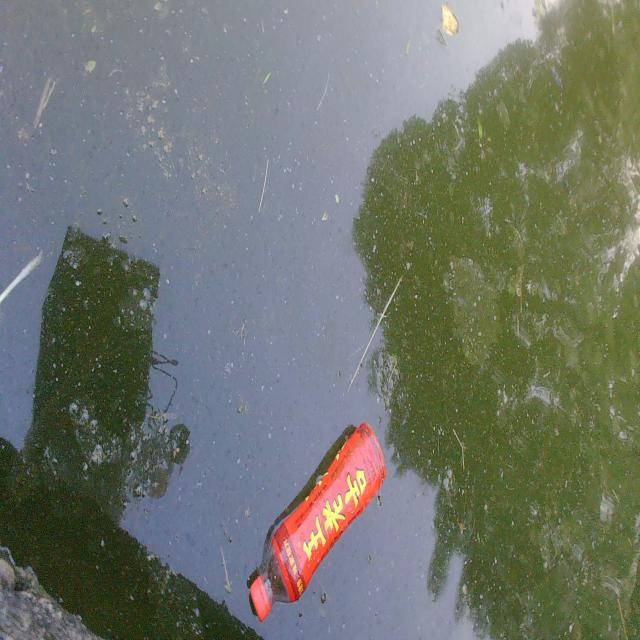garbage: (248, 420, 387, 622)
